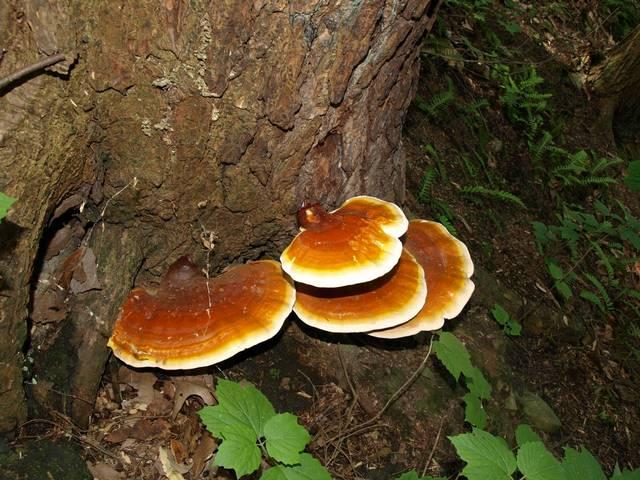poisonous_mushroom: (279, 194, 475, 339), (94, 242, 292, 372)
